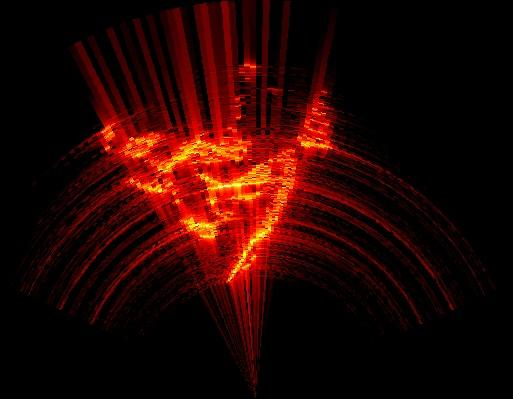shipwreck: (106, 93, 340, 278)
